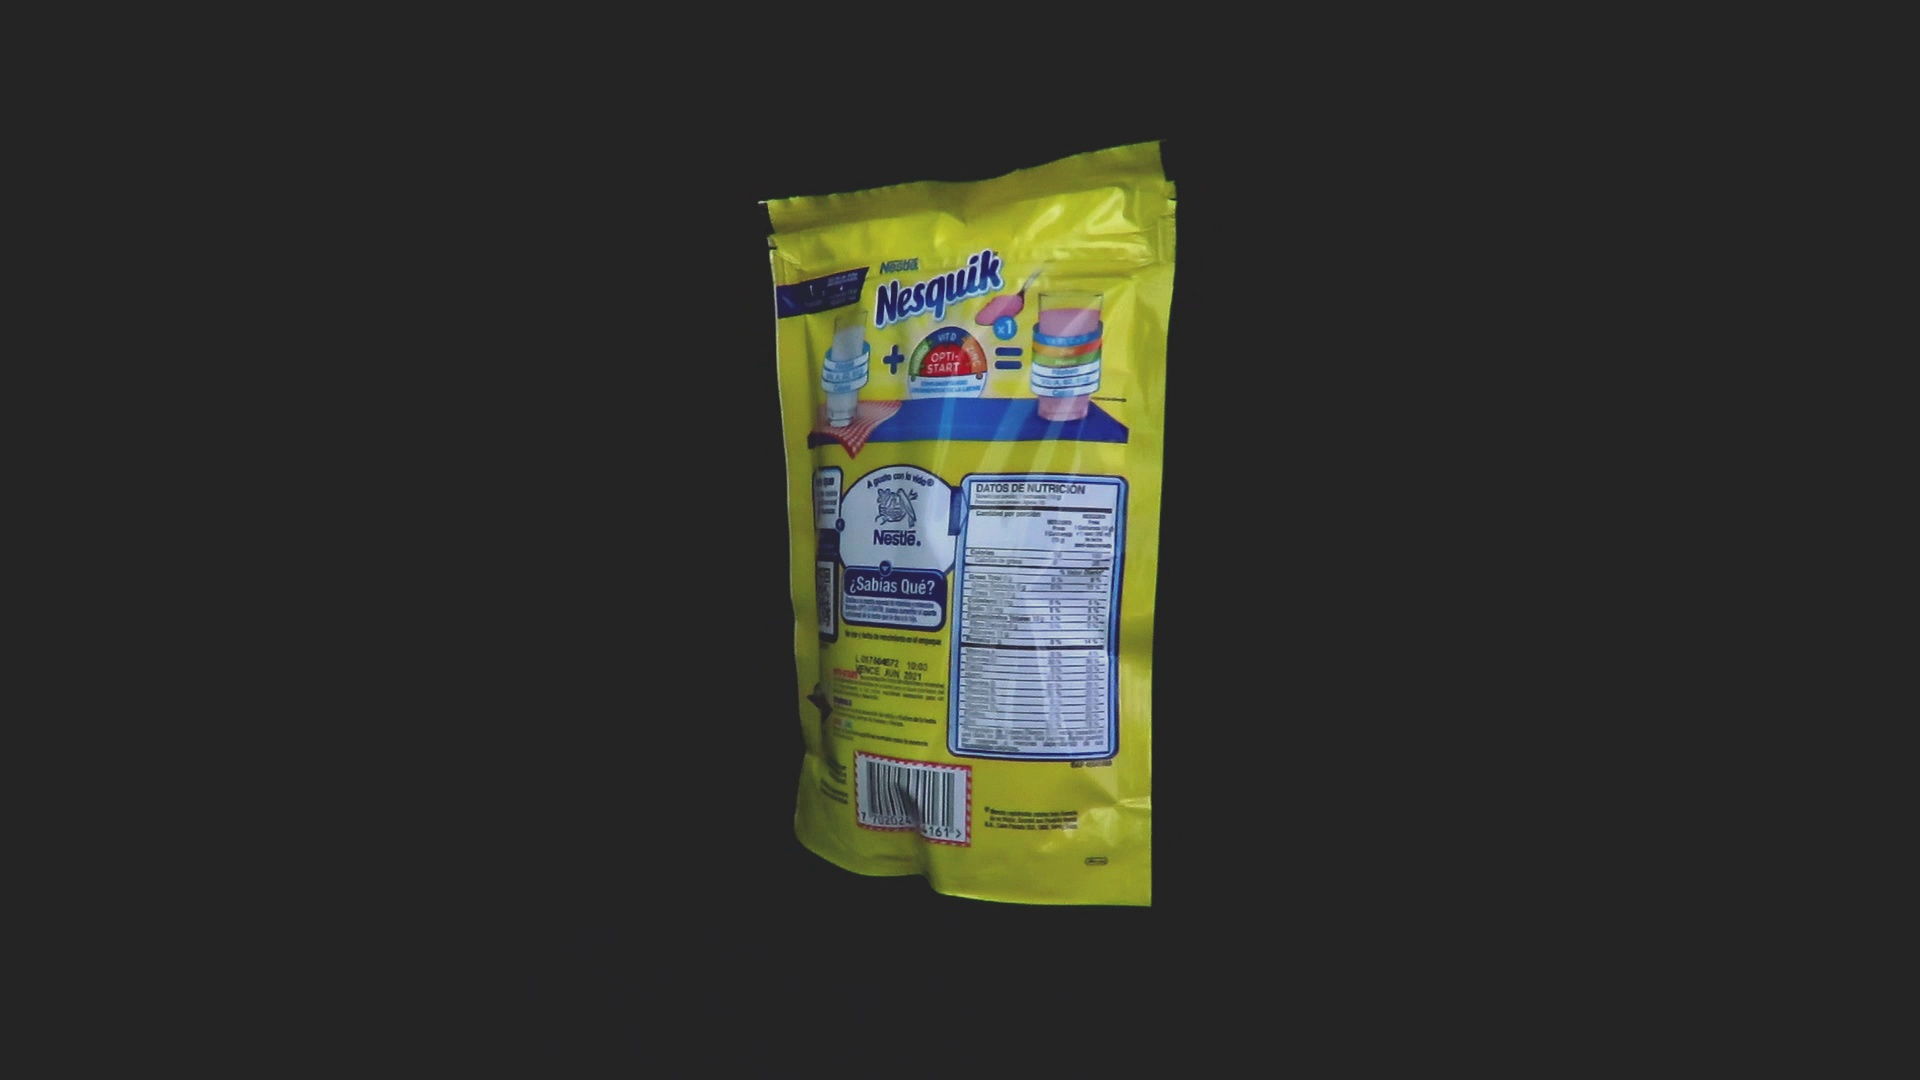COL0170305DYP20000: (753, 133, 1183, 913)
